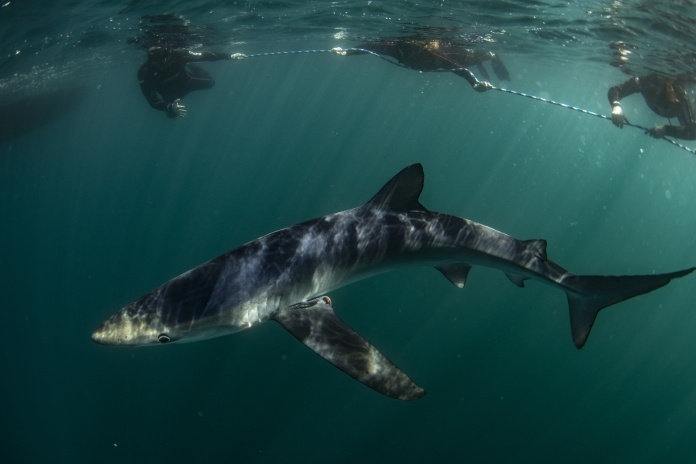Azul: (66, 152, 692, 417)
